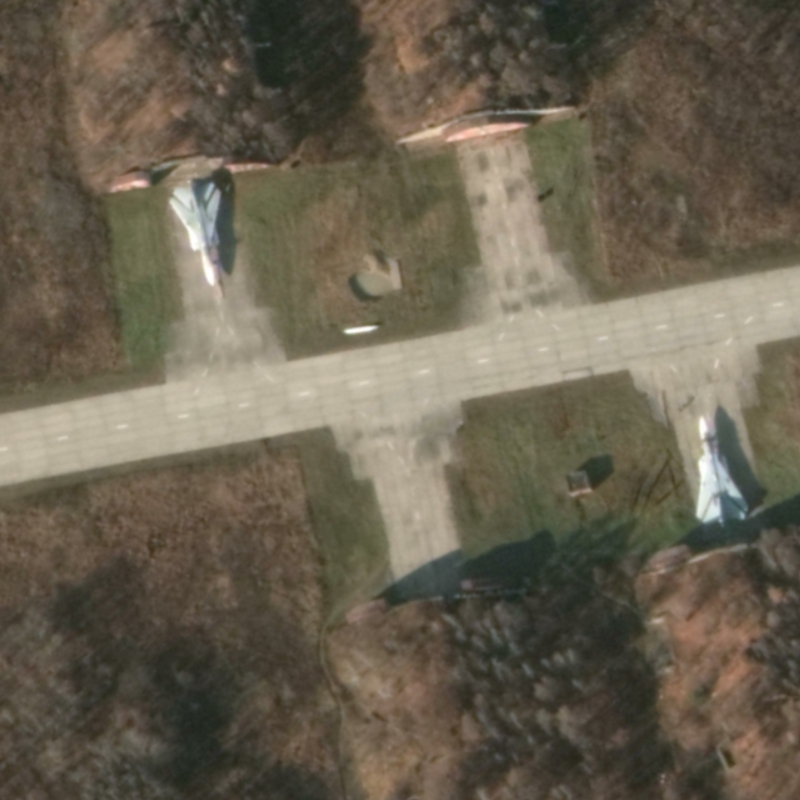A20: (692, 414, 750, 528), (166, 179, 225, 287)
